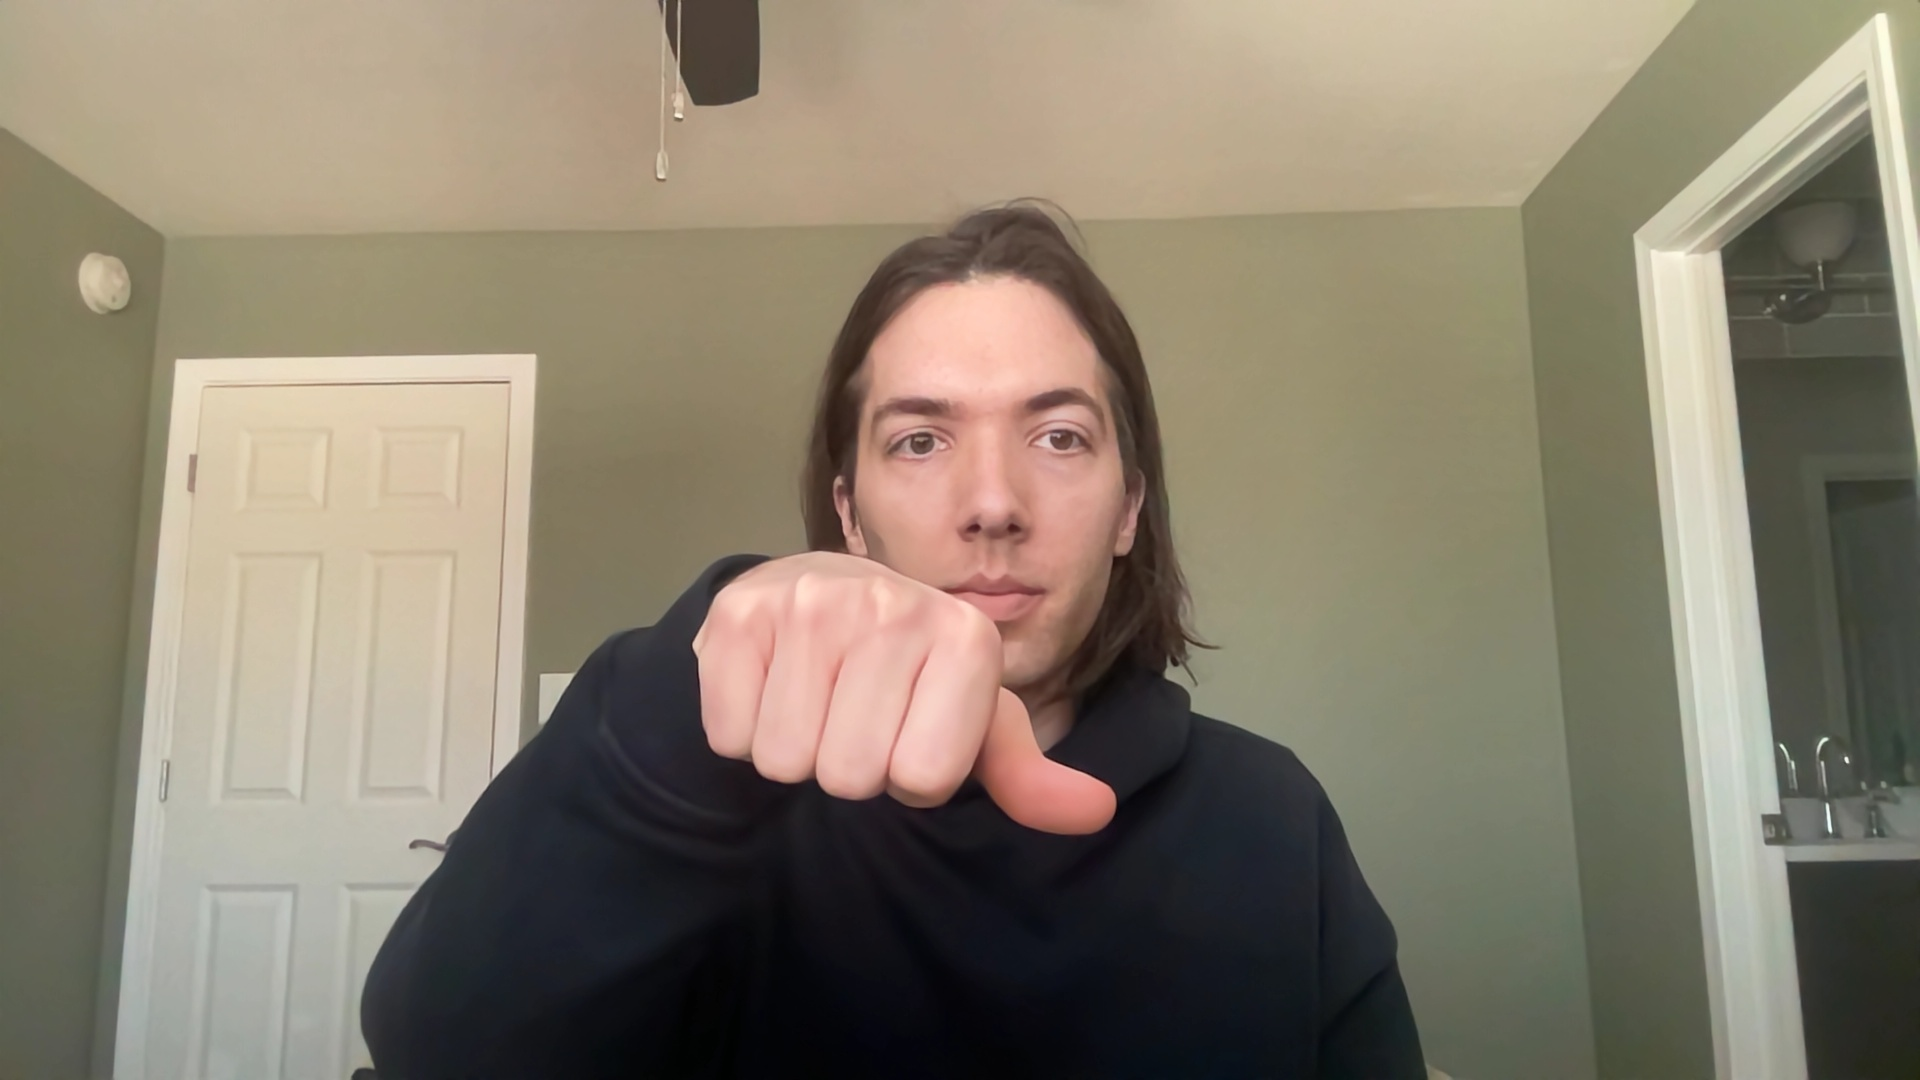Yes: (665, 527, 1143, 884)
